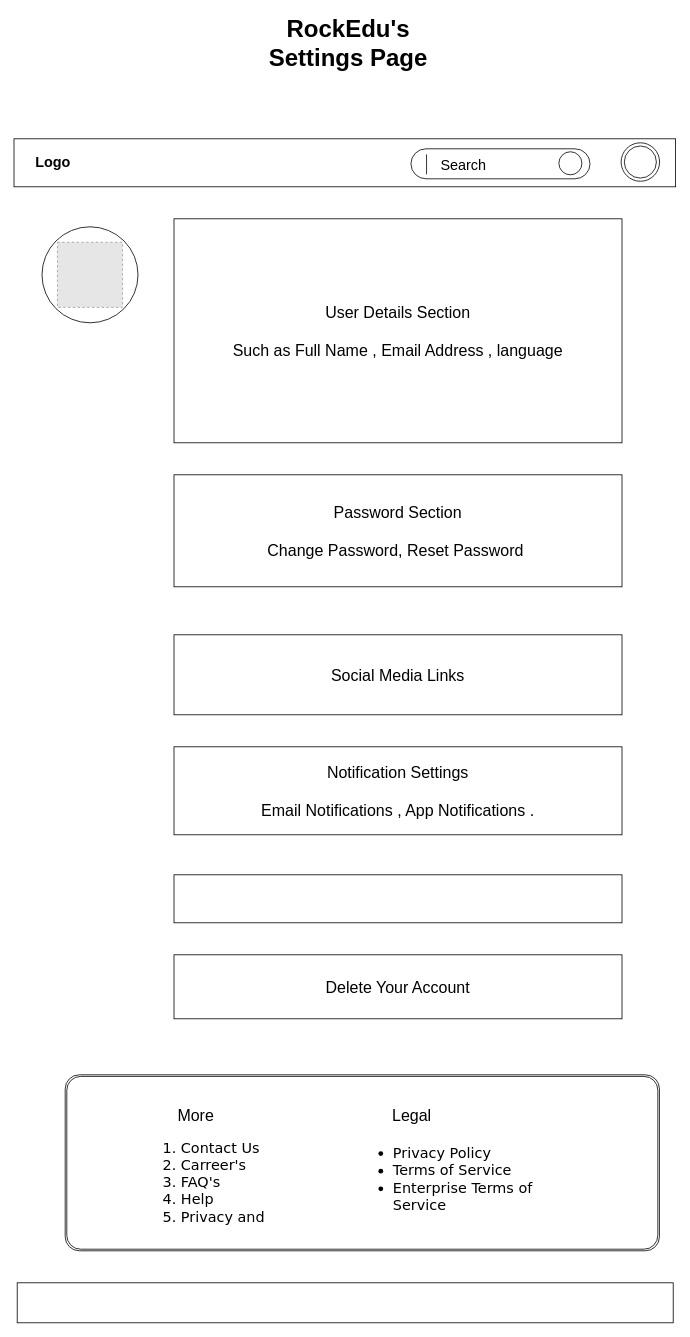
The diagram is 690 pixels wide and 1337 high, and some of its shapes have lost their labels. Grey dashed boxes stand in for pictures. The centre of each missing label's shape, as x and y in pixels:
"Footer" goes at pixel 344 1302.
"Send My Report Pdf, Mail." goes at pixel 397 898.
"User" goes at pixel 640 161.
